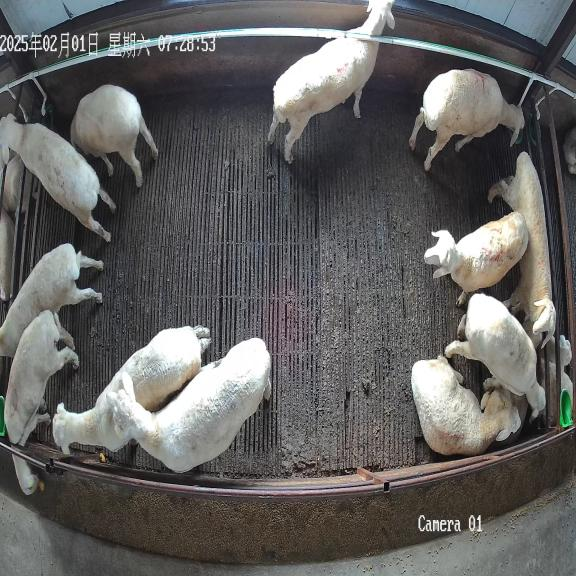drinking: (409, 69, 524, 170)
eating: (4, 310, 79, 495)
lying: (411, 356, 521, 456), (480, 387, 528, 432)
stand: (107, 338, 271, 472), (268, 0, 394, 163), (52, 326, 211, 454), (0, 113, 115, 242), (488, 152, 556, 348), (445, 294, 545, 420), (0, 243, 103, 357), (424, 212, 528, 304), (70, 84, 158, 187)
